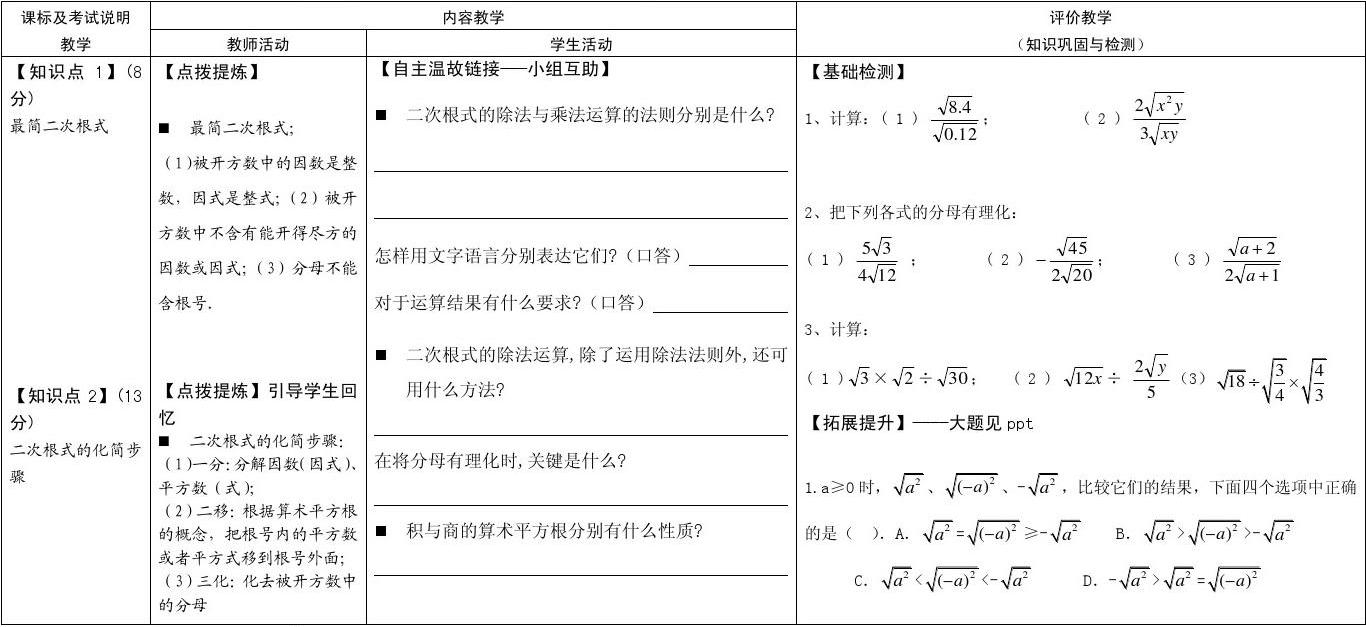division: (1218, 255, 1283, 269), (929, 114, 986, 126), (1134, 114, 1187, 126), (1126, 375, 1172, 388), (1048, 258, 1098, 267), (855, 258, 900, 268), (1272, 377, 1285, 388)
sqrt: (1191, 507, 1255, 560), (1131, 344, 1182, 403), (1221, 218, 1289, 262), (1235, 252, 1296, 301), (921, 560, 987, 605), (1135, 504, 1183, 561), (948, 462, 1007, 507), (927, 115, 998, 151), (1211, 561, 1276, 599), (1051, 219, 1103, 263), (968, 514, 1027, 552), (1059, 255, 1113, 296), (1306, 348, 1337, 416), (1000, 558, 1049, 600), (1150, 112, 1207, 148), (1267, 508, 1311, 553), (881, 556, 928, 598), (940, 353, 988, 394), (1027, 464, 1071, 507), (1209, 357, 1251, 401), (1115, 559, 1159, 601), (936, 79, 982, 119), (1065, 356, 1109, 396), (888, 350, 926, 396), (866, 261, 933, 287), (1261, 353, 1292, 409), (1145, 82, 1195, 115), (917, 509, 957, 550), (894, 463, 933, 504), (1167, 564, 1202, 606), (847, 351, 879, 396), (1048, 518, 1094, 548), (876, 227, 911, 258)
square: (1136, 568, 1154, 579), (1282, 520, 1295, 533), (1249, 569, 1261, 582), (941, 521, 952, 535), (1229, 522, 1241, 534), (1008, 522, 1018, 535), (1068, 521, 1078, 533), (969, 569, 979, 580), (1185, 567, 1193, 580), (912, 476, 922, 486), (1048, 476, 1057, 487), (1164, 94, 1173, 103), (1166, 522, 1173, 533), (1022, 570, 1029, 581), (903, 570, 909, 582), (990, 474, 996, 485)
